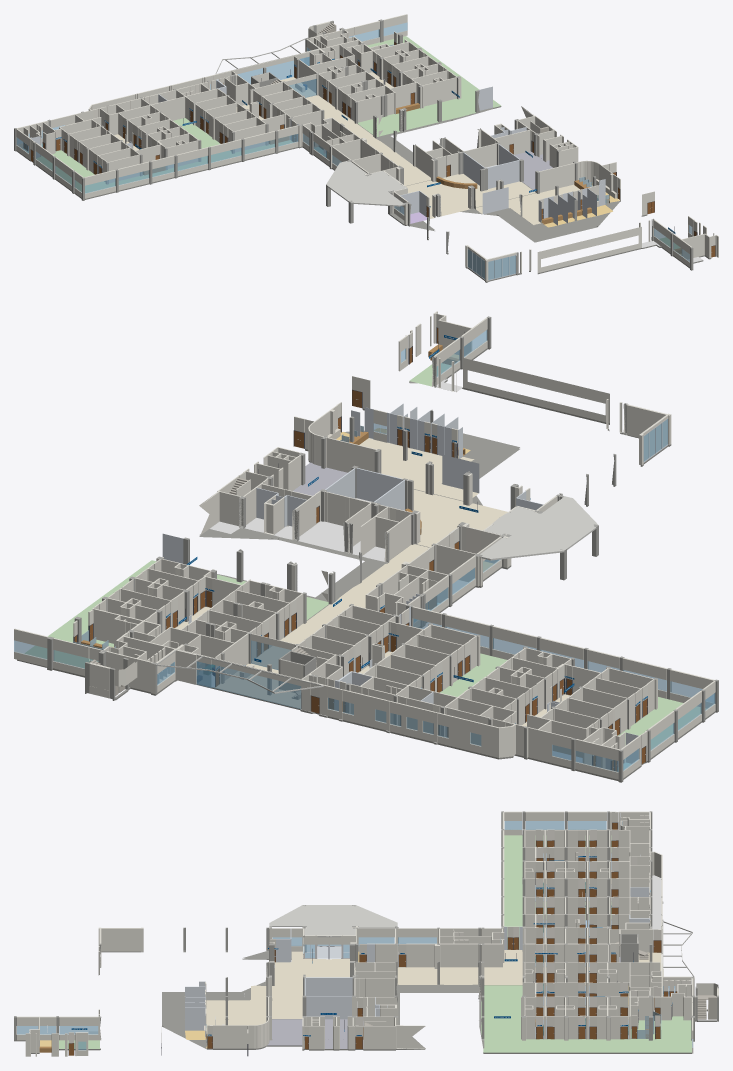
Rendered from solca_pb.glb.
3 views of the same model, one above another, from view 1: azimuth 30°, elevation 25°; view 2: azimuth 150°, elevation 25°; view 3: azimuth 270°, elevation 25° (orthographic). The views are drawn at different scales.
Visible parts, largest first — view 1: muros|0.902,0.884,0.810|0.00, muros|0.462,0.462,0.436|0.00, muros|0.303,0.608,0.846|0.60, pisos|0.922,0.865,0.706|0.00, muros|0.810,0.865,0.922|0.00, pisos|0.608,0.810,0.548|0.00, pisos|0.384,0.384,0.360|0.00, viseras|0.740,0.740,0.706|0.00, muros|0.360,0.160,0.053|0.00, muros|0.102,0.109,0.130|0.00, muebles|0.548,0.314,0.130|0.00, pisos|0.548,0.548,0.608|0.00; view 2: muros|0.902,0.884,0.810|0.00, muros|0.462,0.462,0.436|0.00, muros|0.303,0.608,0.846|0.60, pisos|0.922,0.865,0.706|0.00, muros|0.810,0.865,0.922|0.00, pisos|0.384,0.384,0.360|0.00, viseras|0.740,0.740,0.706|0.00, pisos|0.608,0.810,0.548|0.00, muros|0.360,0.160,0.053|0.00, pisos|0.865,0.865,0.865|0.00, muros|0.102,0.109,0.130|0.00, pisos|0.548,0.548,0.608|0.00; view 3: muros|0.902,0.884,0.810|0.00, pisos|0.608,0.810,0.548|0.00, pisos|0.922,0.865,0.706|0.00, muros|0.462,0.462,0.436|0.00, muros|0.360,0.160,0.053|0.00, muros|0.810,0.865,0.922|0.00, pisos|0.384,0.384,0.360|0.00, viseras|0.740,0.740,0.706|0.00, muros|0.303,0.608,0.846|0.60, muros|0.102,0.109,0.130|0.00, pisos|0.548,0.548,0.608|0.00, escaleras|0.608,0.578,0.518|0.00 (+3 smaller).
Part boxes in pixels (box(x1,y1,x2,y2)): muros|0.902,0.884,0.810|0.00: box(16, 14, 718, 281); muros|0.462,0.462,0.436|0.00: box(14, 19, 693, 274); muros|0.303,0.608,0.846|0.60: box(16, 22, 692, 279); pisos|0.922,0.865,0.706|0.00: box(114, 72, 579, 224); muros|0.810,0.865,0.922|0.00: box(28, 79, 605, 225); pisos|0.608,0.810,0.548|0.00: box(37, 36, 680, 249); pisos|0.384,0.384,0.360|0.00: box(14, 72, 711, 282); viseras|0.740,0.740,0.706|0.00: box(215, 38, 405, 206); muros|0.360,0.160,0.053|0.00: box(24, 42, 715, 257); muros|0.102,0.109,0.130|0.00: box(23, 41, 715, 256); muebles|0.548,0.314,0.130|0.00: box(143, 103, 681, 253); pisos|0.548,0.548,0.608|0.00: box(514, 151, 552, 189); muros|0.902,0.884,0.810|0.00: box(14, 311, 715, 779); muros|0.462,0.462,0.436|0.00: box(47, 316, 718, 781); muros|0.303,0.608,0.846|0.60: box(14, 330, 715, 772); pisos|0.922,0.865,0.706|0.00: box(175, 438, 569, 726); muros|0.810,0.865,0.922|0.00: box(157, 403, 638, 769); pisos|0.384,0.384,0.360|0.00: box(17, 347, 718, 782); viseras|0.740,0.740,0.706|0.00: box(155, 496, 598, 693); pisos|0.608,0.810,0.548|0.00: box(25, 363, 705, 749); muros|0.360,0.160,0.053|0.00: box(74, 328, 647, 771); pisos|0.865,0.865,0.865|0.00: box(210, 379, 462, 743); muros|0.102,0.109,0.130|0.00: box(73, 327, 647, 771); pisos|0.548,0.548,0.608|0.00: box(293, 462, 347, 495); muros|0.902,0.884,0.810|0.00: box(16, 811, 718, 1056); pisos|0.608,0.810,0.548|0.00: box(59, 835, 691, 1052); pisos|0.922,0.865,0.706|0.00: box(206, 870, 661, 1048); muros|0.462,0.462,0.436|0.00: box(14, 811, 718, 1040); muros|0.360,0.160,0.053|0.00: box(69, 823, 677, 1055); muros|0.810,0.865,0.922|0.00: box(185, 813, 674, 1036); pisos|0.384,0.384,0.360|0.00: box(14, 875, 718, 1053); viseras|0.740,0.740,0.706|0.00: box(269, 905, 694, 977); muros|0.303,0.608,0.846|0.60: box(17, 821, 692, 1050); muros|0.102,0.109,0.130|0.00: box(68, 822, 686, 1056); pisos|0.548,0.548,0.608|0.00: box(267, 957, 620, 1048); escaleras|0.608,0.578,0.518|0.00: box(364, 942, 716, 1025).
Bounding box in the file's own units: 79.66 × 4.04 × 107.
